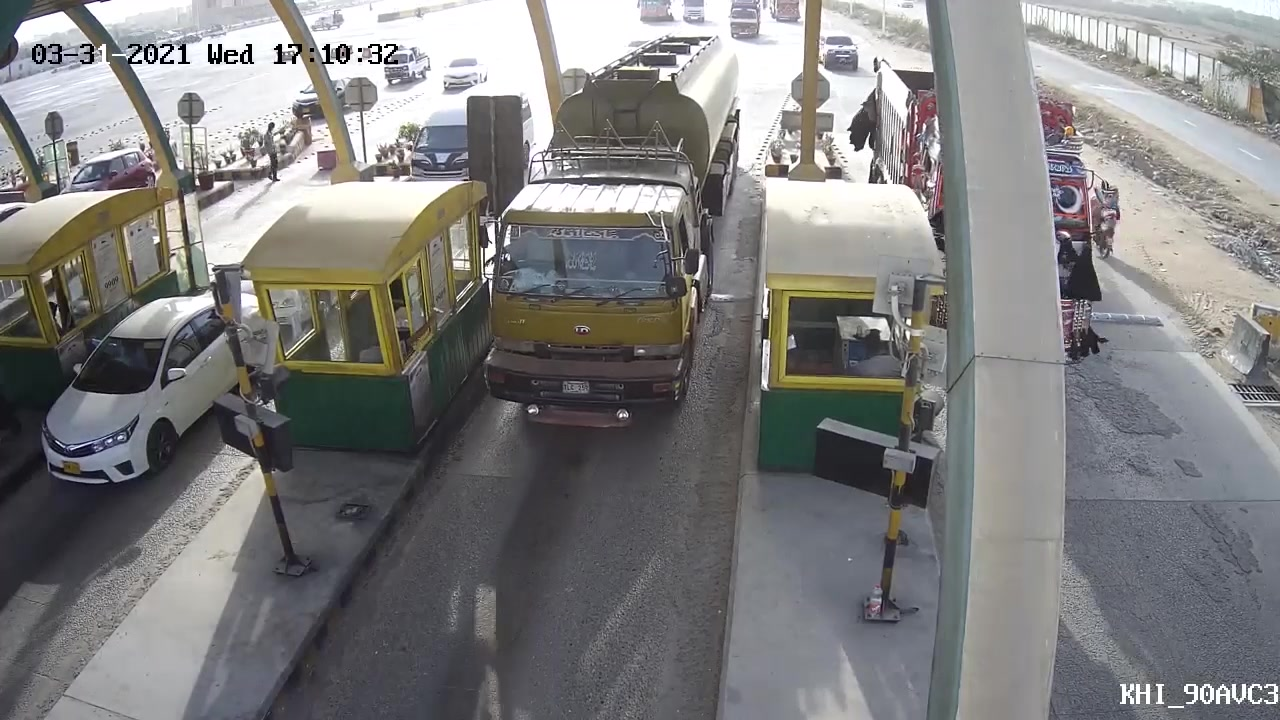F6: (472, 20, 750, 448)
